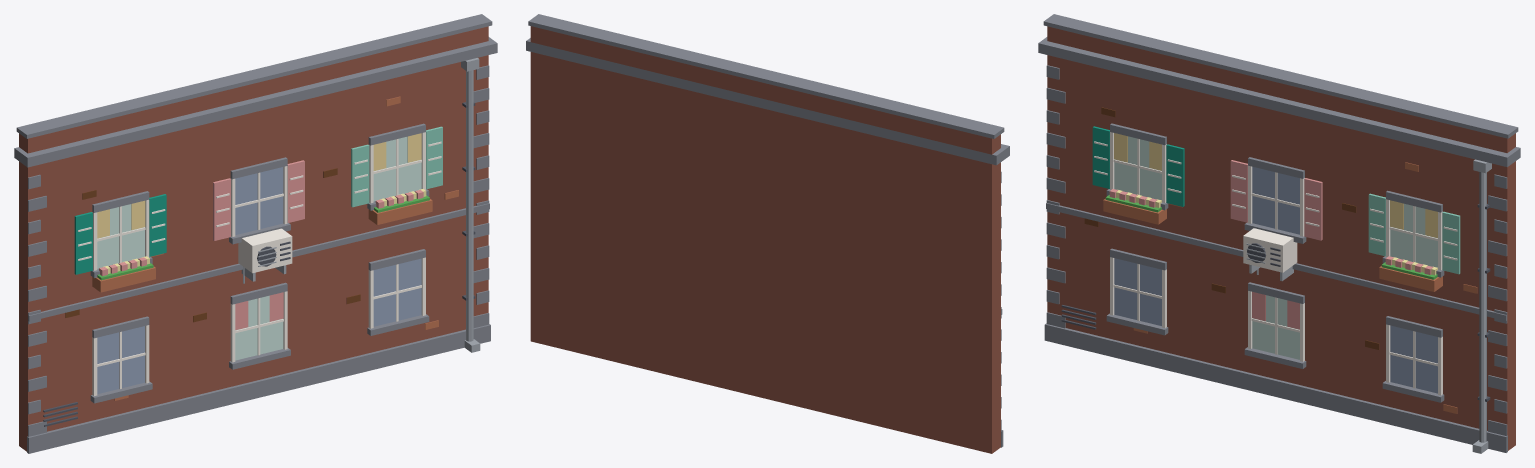
File: CatCafe_Alley_WallWindows.glb
The picture shows the model from 3 angles, left to right: view 1: azimuth 30°, elevation 25°; view 2: azimuth 150°, elevation 25°; view 3: azimuth 330°, elevation 25°; orthographic projection.
Parts seen in each view (by area): view 1: CatCafe_Alley_WallWindows, CatCafe_Alley_WallWindows_Pane, CatCafe_Alley_WallWindows_Flowers; view 2: CatCafe_Alley_WallWindows; view 3: CatCafe_Alley_WallWindows, CatCafe_Alley_WallWindows_Pane, CatCafe_Alley_WallWindows_Flowers.
Part boxes in pixels (<box>): CatCafe_Alley_WallWindows: <box>14,14,497,453</box>; CatCafe_Alley_WallWindows_Pane: <box>97,136,421,360</box>; CatCafe_Alley_WallWindows_Flowers: <box>97,189,429,280</box>; CatCafe_Alley_WallWindows: <box>526,14,1009,453</box>; CatCafe_Alley_WallWindows: <box>1038,14,1520,453</box>; CatCafe_Alley_WallWindows_Pane: <box>1114,136,1437,359</box>; CatCafe_Alley_WallWindows_Flowers: <box>1105,189,1437,279</box>.
Bounding box in the file's own units: 30.6 × 19.85 × 2.74.
Materials: 1 (1 with a texture image).
